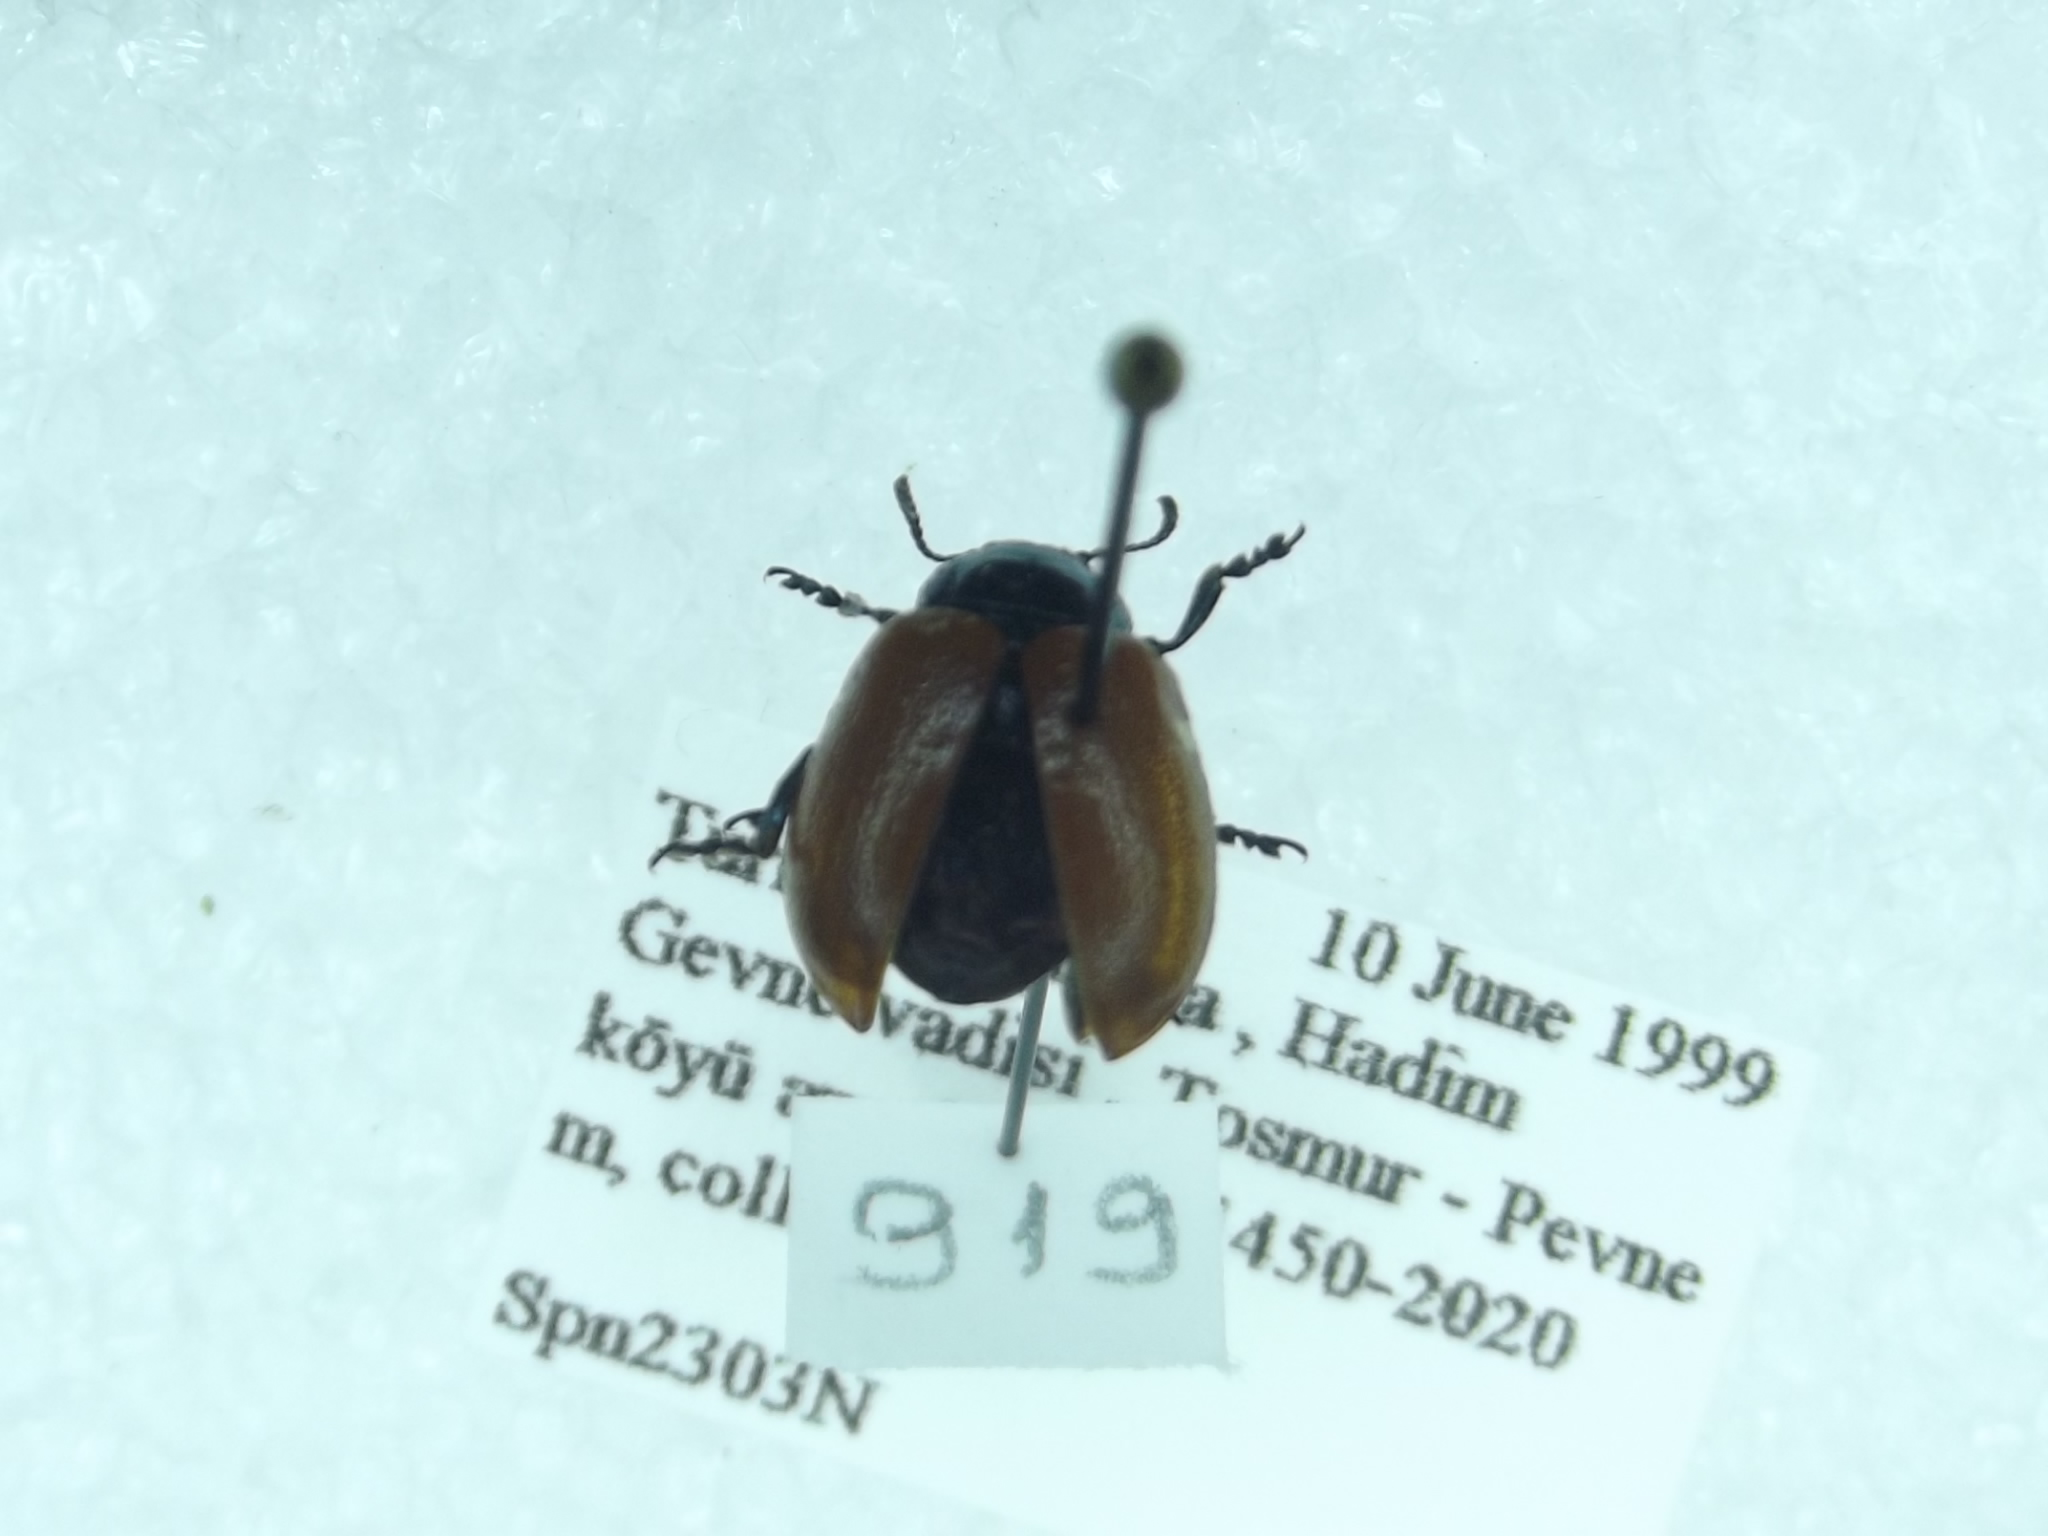Chrysomela_populi: (626, 466, 1314, 1055)
